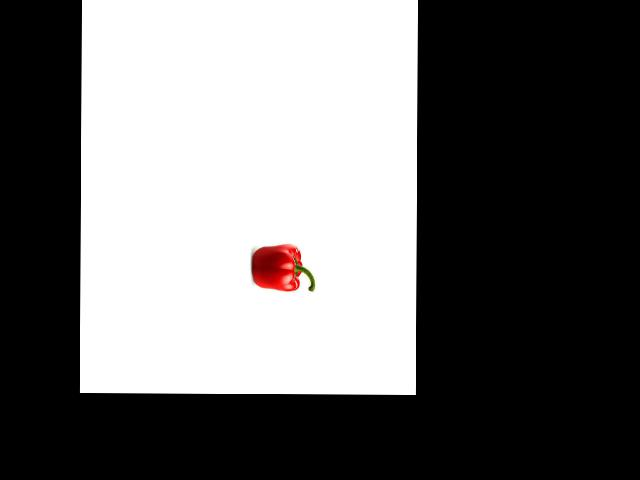bell_pepper: (251, 245, 315, 293)
